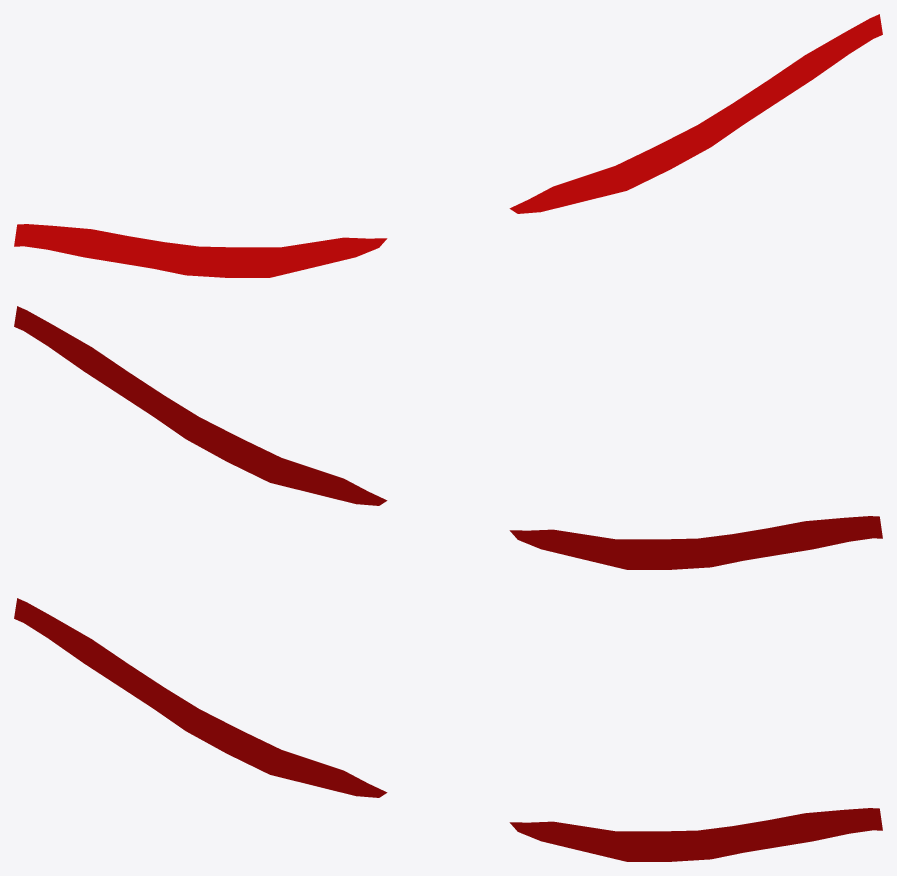
File: frame148.fbx
3 views of the same model, one above another, from view 1: azimuth 30°, elevation 25°; view 2: azimuth 150°, elevation 25°; view 3: azimuth 330°, elevation 25° (orthographic).
Parts seen in each view (by area): view 1: MaterialLayer; view 2: MaterialLayer; view 3: MaterialLayer.
Boxes of the visible parts, x1,y1,x2,y2 form: MaterialLayer: [14, 14, 882, 277]; MaterialLayer: [14, 306, 882, 569]; MaterialLayer: [14, 598, 882, 861].
Size of the model in its own units: 1472 by 187 by 0.
